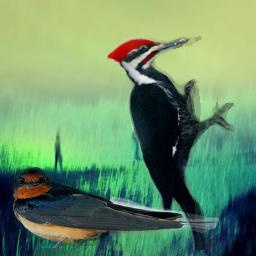Swallow: (7, 163, 219, 248)
Woodpecker: (107, 33, 235, 250)
